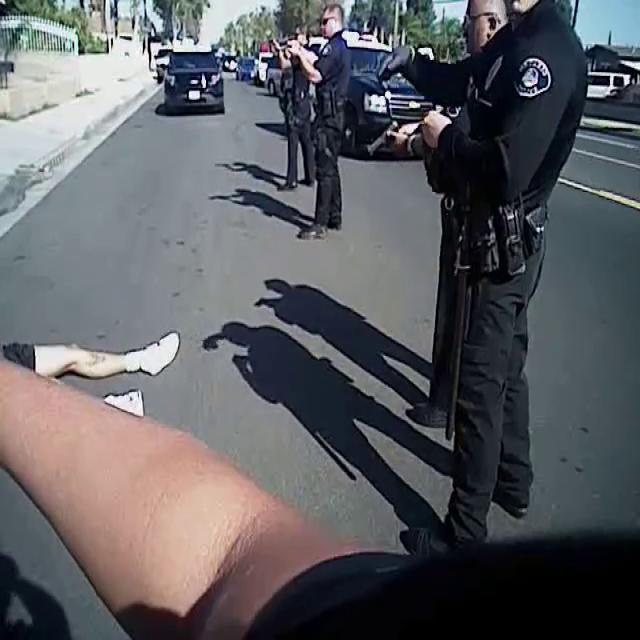gun: (352, 103, 408, 167), (267, 29, 300, 57)
